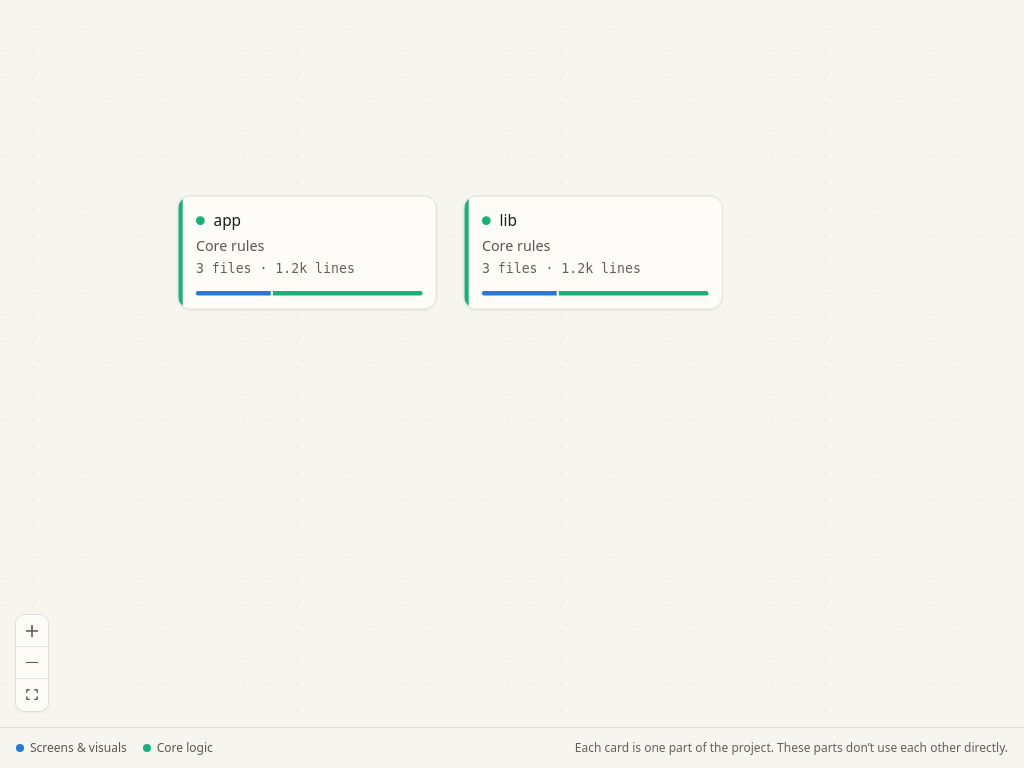
Test: tooltips › show module descriptions as plain words, without Markdown backticks
Hover over the element with class "react-flow__node" that starts with "app": (307, 252) top-left (177, 195), bottom-right (437, 310)
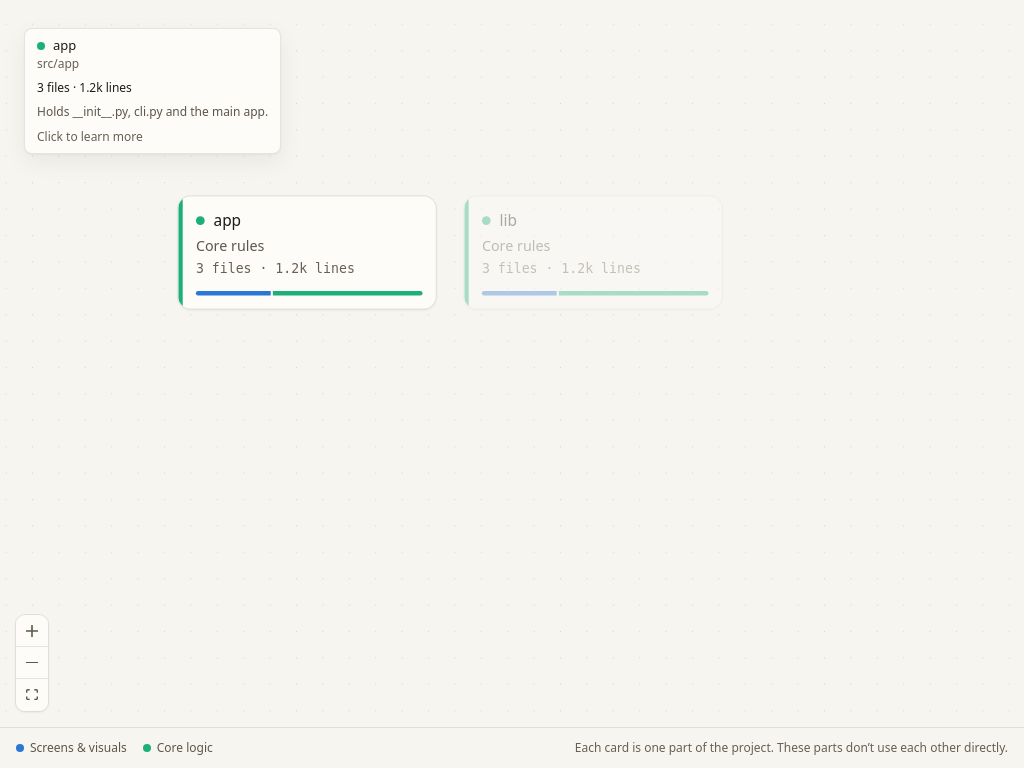
Now the tooltip shows "Holds __init__.py, cli.py and the main app.", box top-left (37, 103), bottom-right (268, 120)
